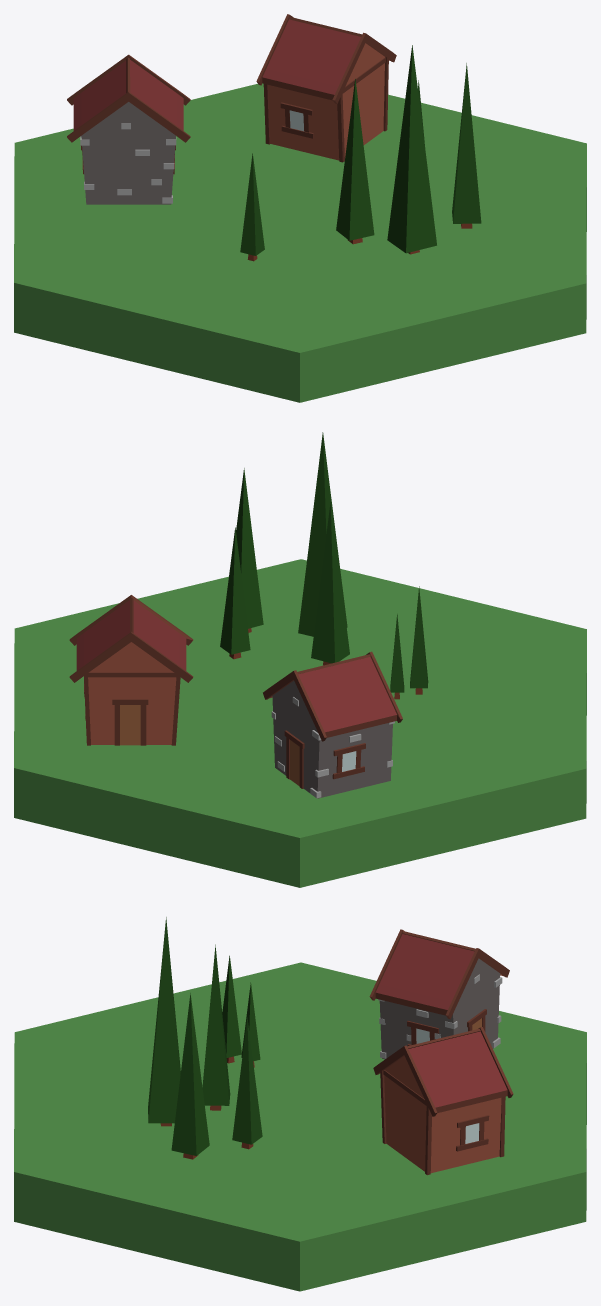
The model's file is Planet_VillageWhole_Hexagon.fbx.
3 views of the same model, one above another, from view 1: azimuth 30°, elevation 25°; view 2: azimuth 150°, elevation 25°; view 3: azimuth 270°, elevation 25° (orthographic).
Parts seen in each view (by area): view 1: polySurface5, pCube108 (×2), pCube1, pCube5, pCube4, pCube11; view 2: polySurface5, pCube108 (×2), pCube5, pCube1, pCube4, pCube8, pCube11, pCube129, pCube9; view 3: polySurface5, pCube108 (×2), pCube1, pCube4, pCube5, pCube8, pCube11, pCube9.
Part boxes in pixels (<box>): polySurface5: <box>14,83,586,402</box>; pCube108 (×2): <box>67,14,396,204</box>; pCube1: <box>387,45,436,253</box>; pCube5: <box>336,79,374,240</box>; pCube4: <box>452,63,481,223</box>; pCube11: <box>240,153,264,255</box>; polySurface5: <box>14,559,586,887</box>; pCube108 (×2): <box>69,595,402,798</box>; pCube5: <box>311,502,349,663</box>; pCube1: <box>298,432,347,636</box>; pCube4: <box>236,468,263,628</box>; pCube8: <box>220,527,250,654</box>; pCube11: <box>410,586,428,688</box>; pCube129: <box>120,705,140,745</box>; pCube9: <box>390,614,404,692</box>; polySurface5: <box>14,962,586,1291</box>; pCube108 (×2): <box>369,929,513,1173</box>; pCube1: <box>148,917,180,1123</box>; pCube4: <box>171,993,209,1155</box>; pCube5: <box>202,944,230,1105</box>; pCube8: <box>232,1017,262,1144</box>; pCube11: <box>222,955,241,1057</box>; pCube9: <box>241,982,260,1061</box>.
Bounding box in the file's own units: 6.28 × 2.7 × 5.44.
